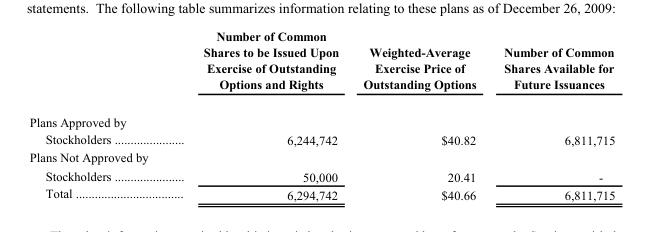table: (28, 28, 614, 201)
table column: (156, 28, 350, 201), (350, 28, 489, 201), (28, 28, 156, 201), (489, 28, 614, 201)
table column header: (28, 28, 614, 102)
table projected row header: (28, 102, 614, 130), (28, 148, 614, 166)
table row: (28, 28, 614, 102), (28, 102, 614, 130), (28, 130, 614, 148), (28, 148, 614, 166), (28, 166, 614, 184), (28, 184, 614, 201)
